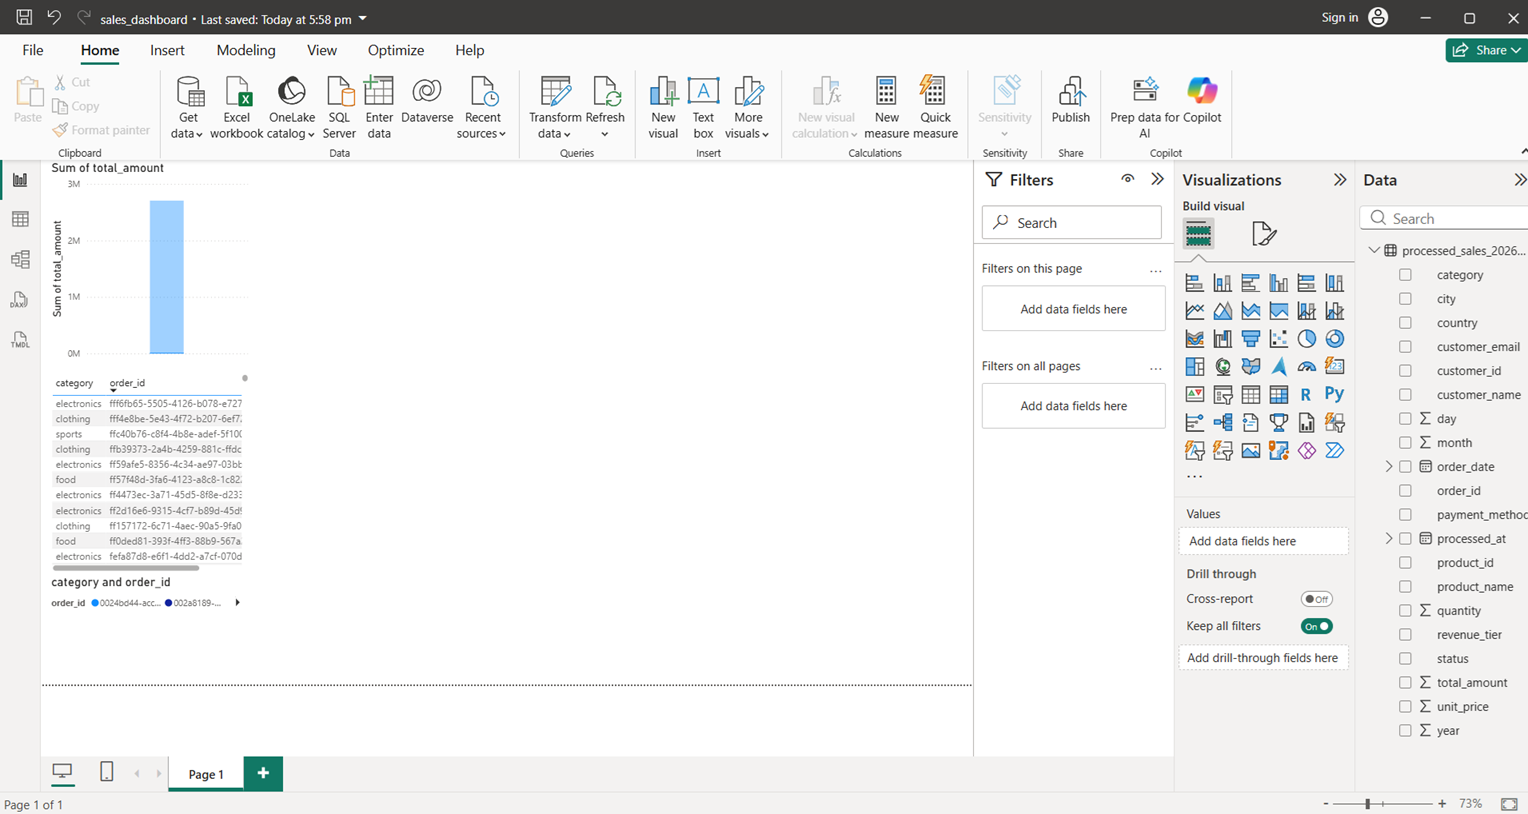

Layout of this report page (visuals, bound fields, positions):
{"tool":"powerbi","page":{"name":"Page 1","canvas":[1280,720],"ordinal":0},"visuals":[{"type":"clusteredColumnChart","fields":{"Y":["Sum(processed_sales_20260604_172021.total_amount)"]},"box":[10,0,280,280],"z":0},{"type":"tableEx","fields":{"Values":["processed_sales_20260604_172021.category","processed_sales_20260604_172021.order_id"]},"box":[10,290,280,280],"z":1},{"type":"columnChart","fields":{"Category":["processed_sales_20260604_172021.category"],"Series":["processed_sales_20260604_172021.order_id"]},"box":[10,570,280,150],"z":2}]}

Visuals, with their boxes on the page's 1280x720 design canvas (x1, y1, x2, y2). These are canvas units, not pixel positions in the 1528x814 screenshot, which may show the page scaled, cropped or inside an application window:
clusteredColumnChart - Sum(processed_sales_20260604_172021.total_amount): l=10, t=0, r=290, b=280
tableEx - processed_sales_20260604_172021.category x processed_sales_20260604_172021.order_id: l=10, t=290, r=290, b=570
columnChart - processed_sales_20260604_172021.category x processed_sales_20260604_172021.order_id: l=10, t=570, r=290, b=720
